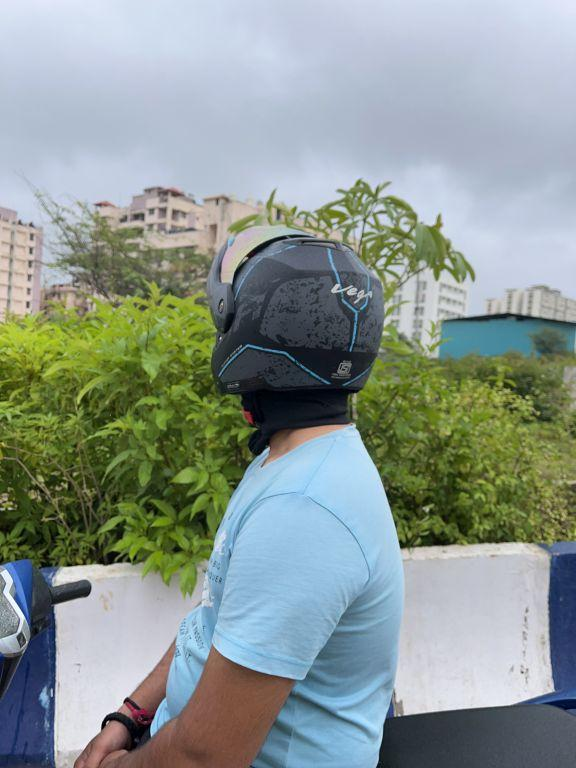helmet: (192, 214, 390, 421)
